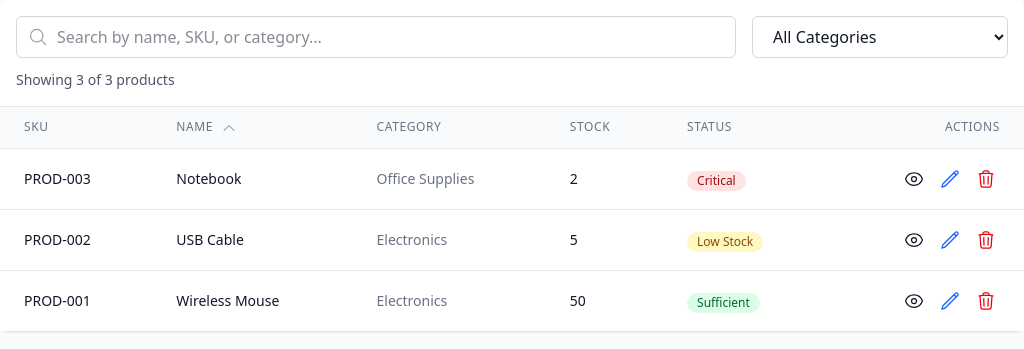
Test: InventoryTable › filters products by category
Select "Office Supplies" in the dropdown at (880, 37), box [752,16,1008,58]
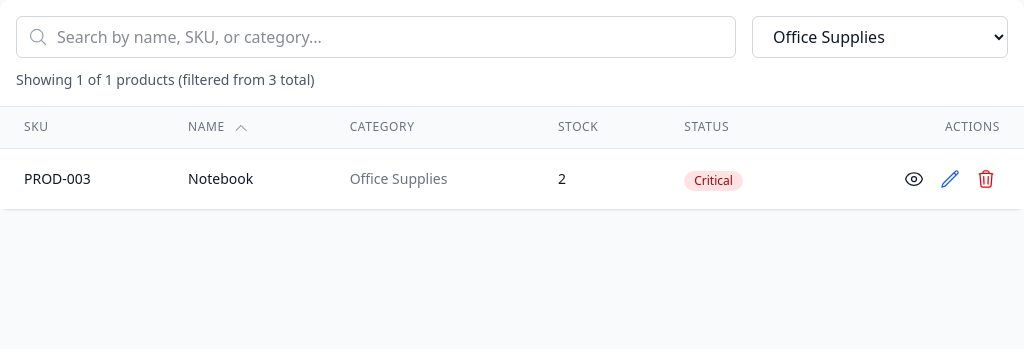
Expected: the text "Notebook" is shown, [164,148,326,209]
Expected: the text "Wireless Mouse" is gone
Expected: the text "USB Cable" is gone
